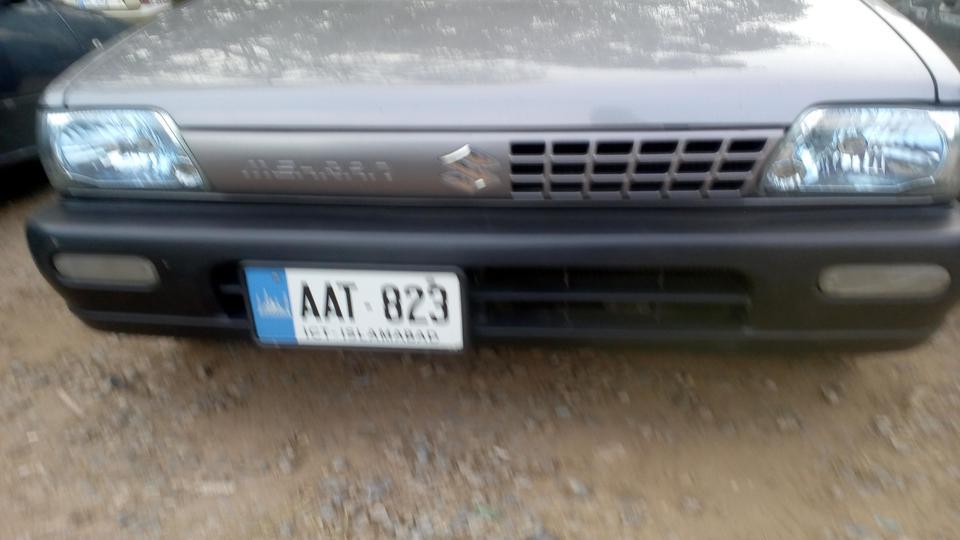NumberPlate: (243, 259, 463, 357)
